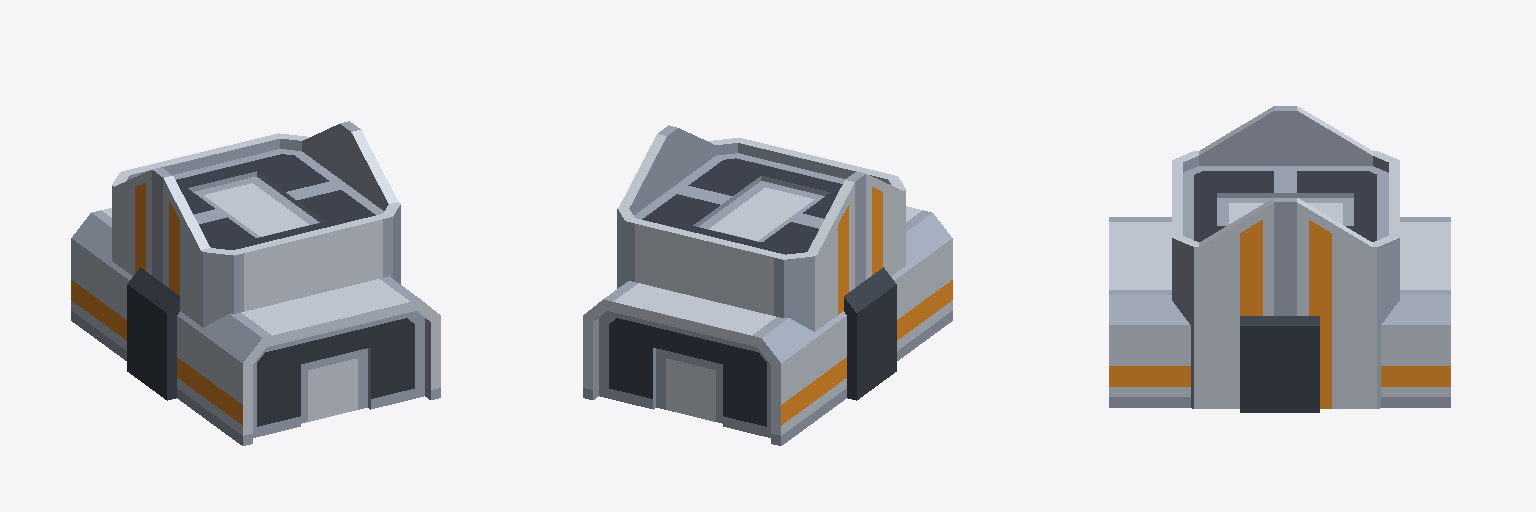
File: buildings_2.obj
The picture shows the model from 3 angles: view 1: azimuth 30°, elevation 25°; view 2: azimuth 150°, elevation 25°; view 3: azimuth 270°, elevation 25°; orthographic projection.
Visible parts, largest first — view 1: hangar_largeB.002_hangar_largeB.004; view 2: hangar_largeB.002_hangar_largeB.004; view 3: hangar_largeB.002_hangar_largeB.004.
Boxes of the visible parts, box(x1,y1,x2,y2) form: hangar_largeB.002_hangar_largeB.004: box(71, 121, 440, 445); hangar_largeB.002_hangar_largeB.004: box(583, 125, 952, 445); hangar_largeB.002_hangar_largeB.004: box(1109, 106, 1450, 412).
Bounding box in the file's own units: 2.2 × 2 × 3.